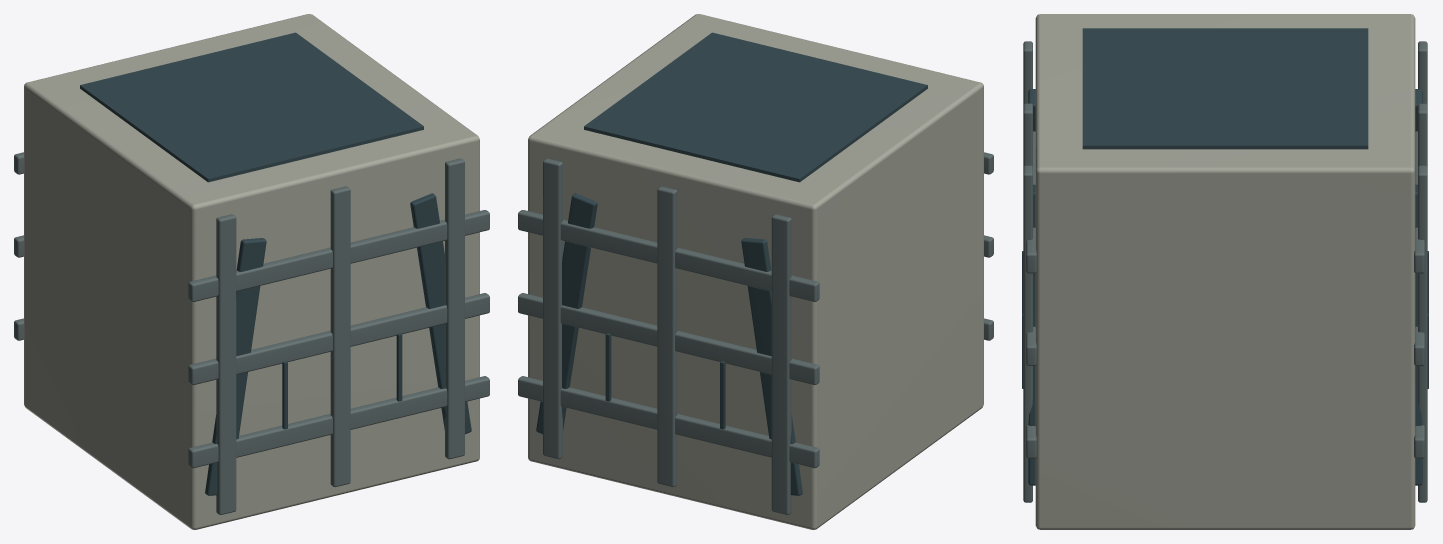
Rendered from abutment-shaft-0.glb.
3 renders of one model, left to right at view 1: azimuth 30°, elevation 25°; view 2: azimuth 150°, elevation 25°; view 3: azimuth 270°, elevation 25°, orthographic. The views are drawn at different scales.
Parts seen in each view (by area): view 1: abutment_1, abutment_2, abutment_0; view 2: abutment_1, abutment_2, abutment_0; view 3: abutment_1, abutment_2, abutment_0.
Part boxes in pixels (x1,y1,x2,y2): abutment_1: [24, 14, 479, 529]; abutment_2: [80, 32, 471, 495]; abutment_0: [14, 152, 489, 514]; abutment_1: [528, 14, 983, 529]; abutment_2: [536, 32, 927, 495]; abutment_0: [518, 152, 993, 514]; abutment_1: [1035, 14, 1415, 529]; abutment_2: [1022, 28, 1428, 485]; abutment_0: [1023, 41, 1427, 502].
Bounding box in the file's own units: 0.94 × 1 × 0.996.
